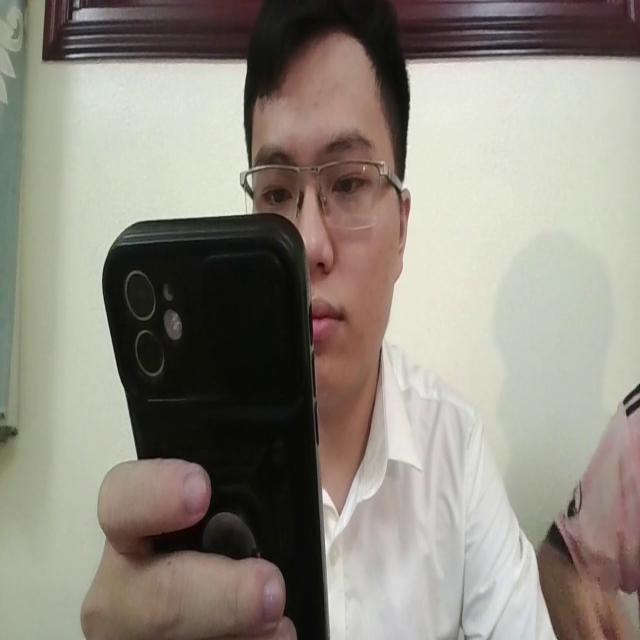phone: (96, 208, 334, 640)
student: (76, 0, 552, 640)
